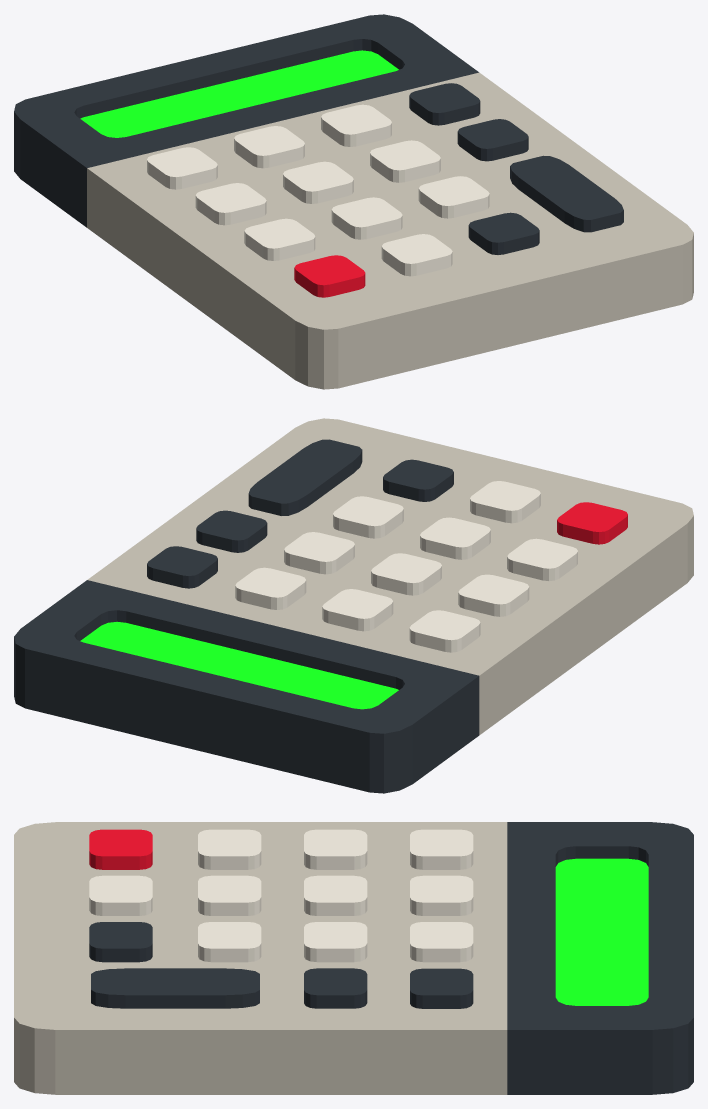
Rendered from Calculadora.glb.
The picture shows the model from 3 angles, top to bottom: view 1: azimuth 30°, elevation 25°; view 2: azimuth 150°, elevation 25°; view 3: azimuth 270°, elevation 25°; orthographic projection. The views are drawn at different scales.
Visible parts, largest first — view 1: Cube; view 2: Cube; view 3: Cube.
Boxes of the visible parts, x1=… form: Cube: x1=14, y1=14, x2=693, y2=389; Cube: x1=14, y1=418, x2=693, y2=793; Cube: x1=14, y1=822, x2=693, y2=1094.
Bounding box in the file's own units: 3.6 × 0.6323 × 4.97.
